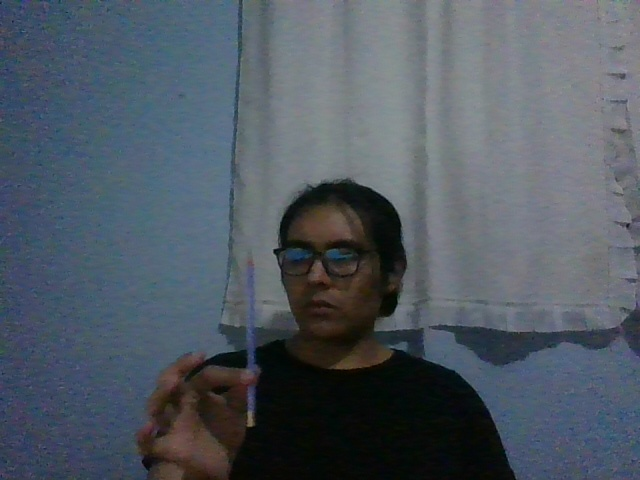lapiz: (246, 250, 256, 428)
